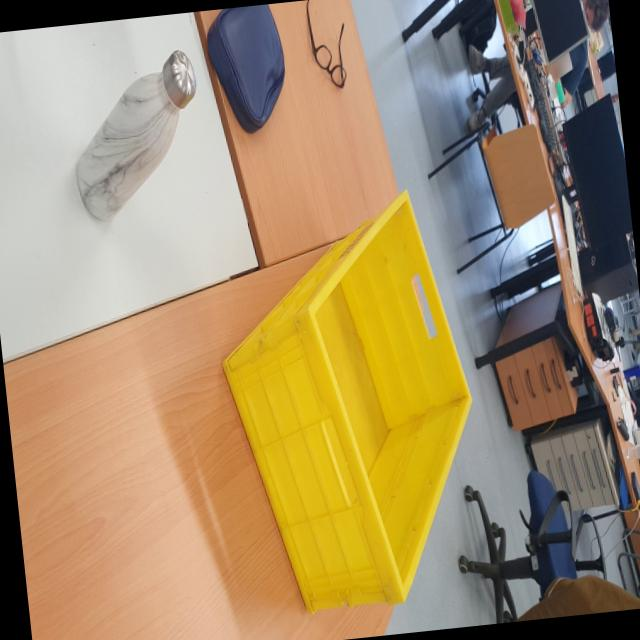box: (198, 162, 501, 640)
